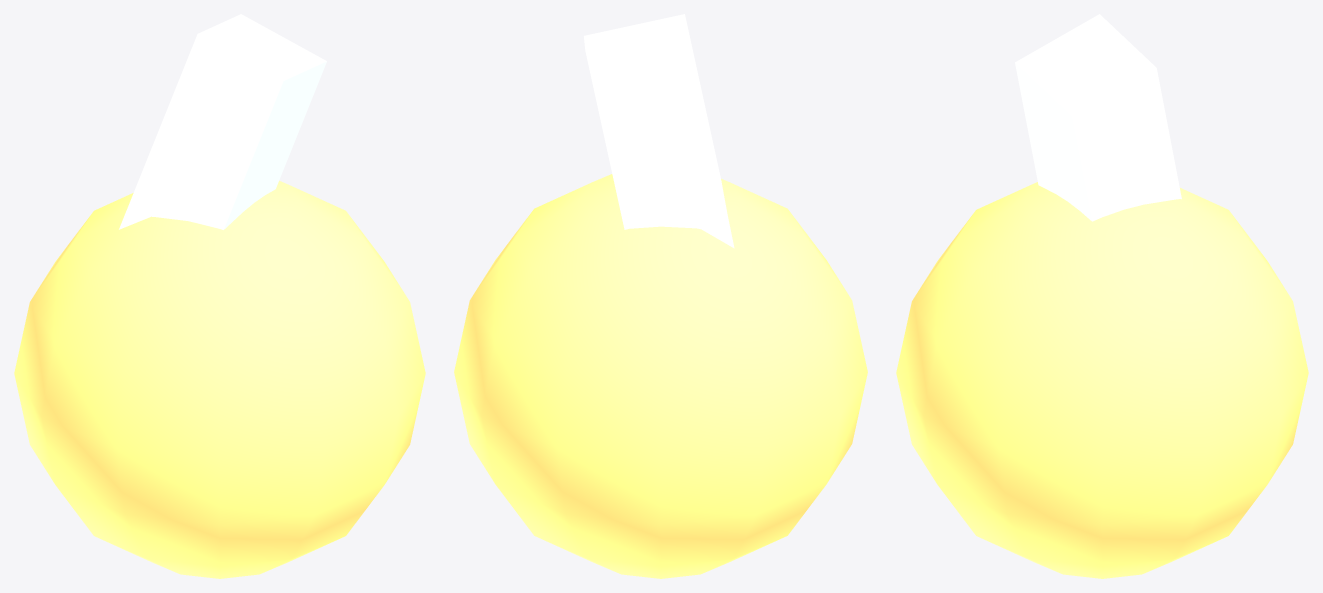
Rendered from pickups.glb.
The picture shows the model from 3 angles, left to right: view 1: azimuth 30°, elevation 25°; view 2: azimuth 150°, elevation 25°; view 3: azimuth 270°, elevation 25°; orthographic projection.
Parts seen in each view (by area): view 1: Ember, Shard; view 2: Ember, Shard; view 3: Ember, Shard.
Boxes of the visible parts, left/top/right/bottom form: Ember: left=14, top=180, right=425, bottom=578; Shard: left=119, top=14, right=326, bottom=229; Ember: left=454, top=174, right=867, bottom=578; Shard: left=584, top=14, right=734, bottom=248; Ember: left=896, top=182, right=1308, bottom=578; Shard: left=1015, top=14, right=1181, bottom=221.
Size of the model in its own units: 0.22 by 0.3143 by 0.22.
